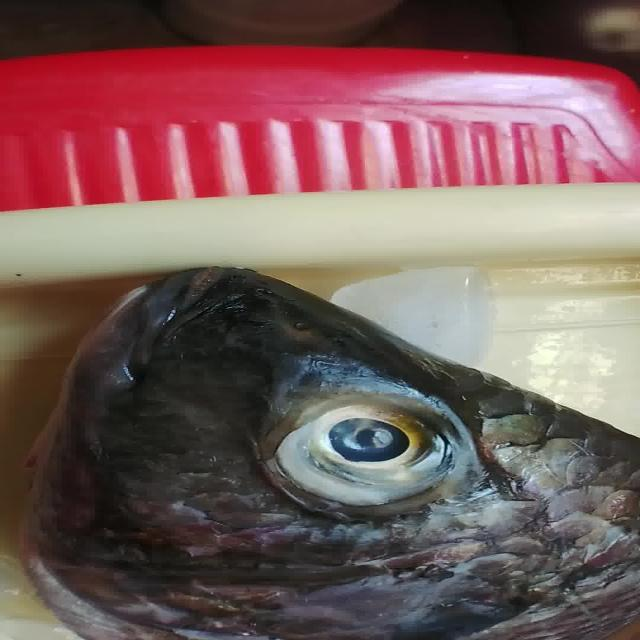Fresh: (257, 369, 504, 523)
